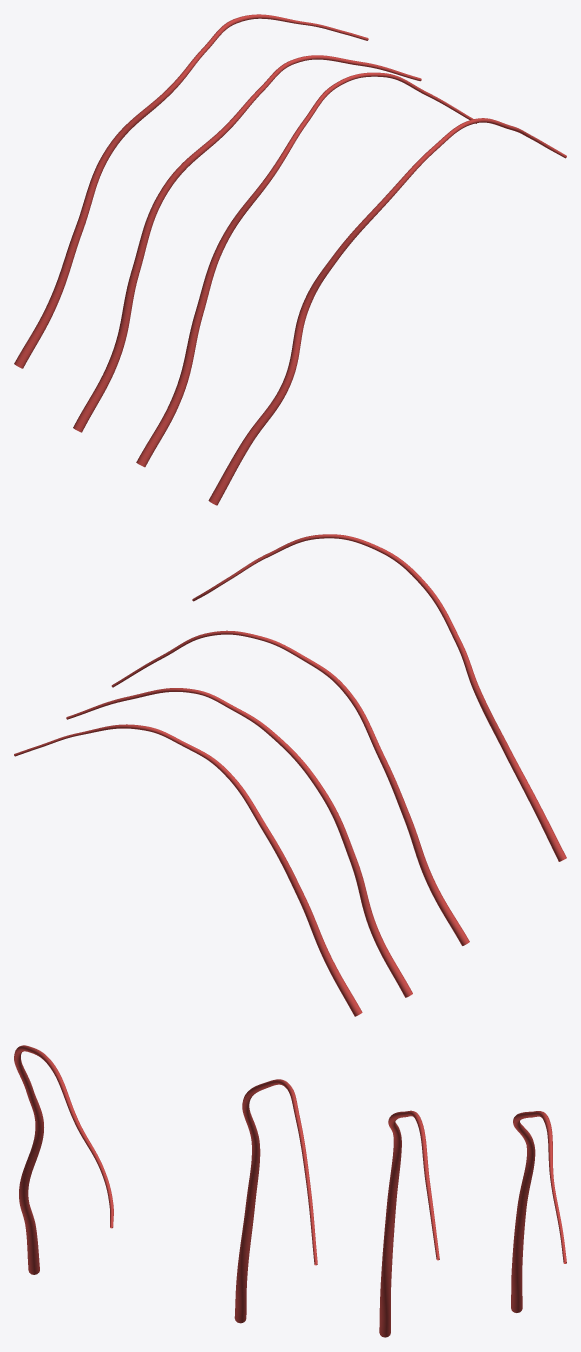
The picture shows the model from 3 angles, top to bottom: view 1: azimuth 30°, elevation 25°; view 2: azimuth 150°, elevation 25°; view 3: azimuth 270°, elevation 25°; orthographic projection. The views are drawn at different scales.
Parts seen in each view (by area): view 1: 左侧腰动脉; view 2: 左侧腰动脉; view 3: 左侧腰动脉.
Part boxes in pixels (box(x1,y1,x2,y2)): 左侧腰动脉: box(14, 14, 566, 505); 左侧腰动脉: box(14, 534, 566, 1016); 左侧腰动脉: box(14, 1045, 566, 1337).
Bounding box in the file's own units: 0.1297 × 0.1136 × 0.1396.
